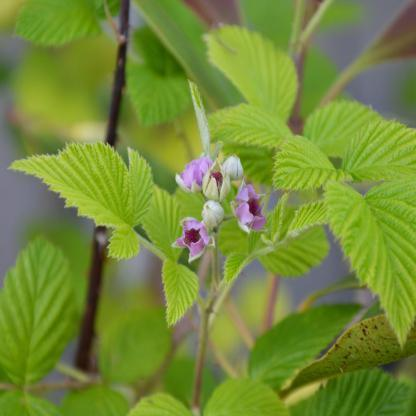Raspberry leaf: (322, 179, 416, 348), (6, 138, 138, 230), (206, 21, 302, 122)
